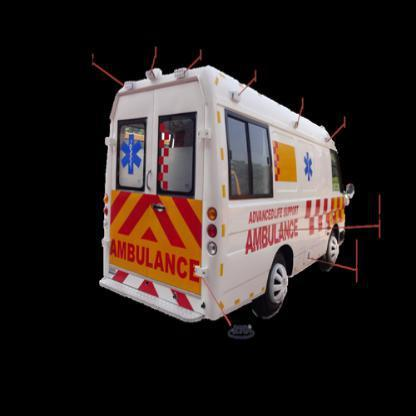Ambulance - v1 Ambulance last generate: (99, 68, 352, 322)
